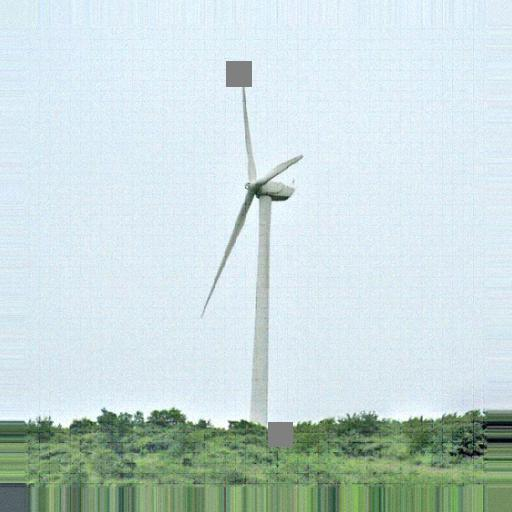wind turbine: (200, 76, 304, 433)
